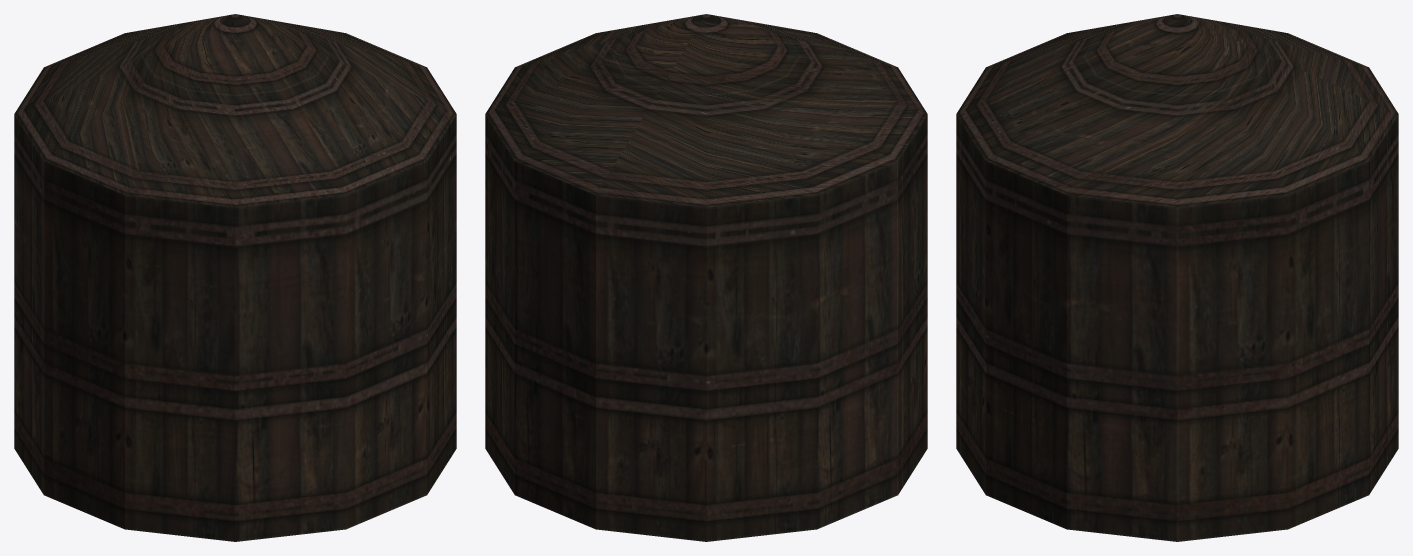
The model's file is waterTank_1.obj.
3 renders of one model, left to right at view 1: azimuth 30°, elevation 25°; view 2: azimuth 150°, elevation 25°; view 3: azimuth 270°, elevation 25°, orthographic.
Parts seen in each view (by area): view 1: waterTank_1; view 2: waterTank_1; view 3: waterTank_1.
Part boxes in pixels (left/top/right/bottom): waterTank_1: left=14, top=14, right=456, bottom=541; waterTank_1: left=485, top=14, right=927, bottom=541; waterTank_1: left=956, top=14, right=1398, bottom=541.
Size of the model in its own units: 2.4 by 2.6 by 2.4.
1 material, 1 textured.
